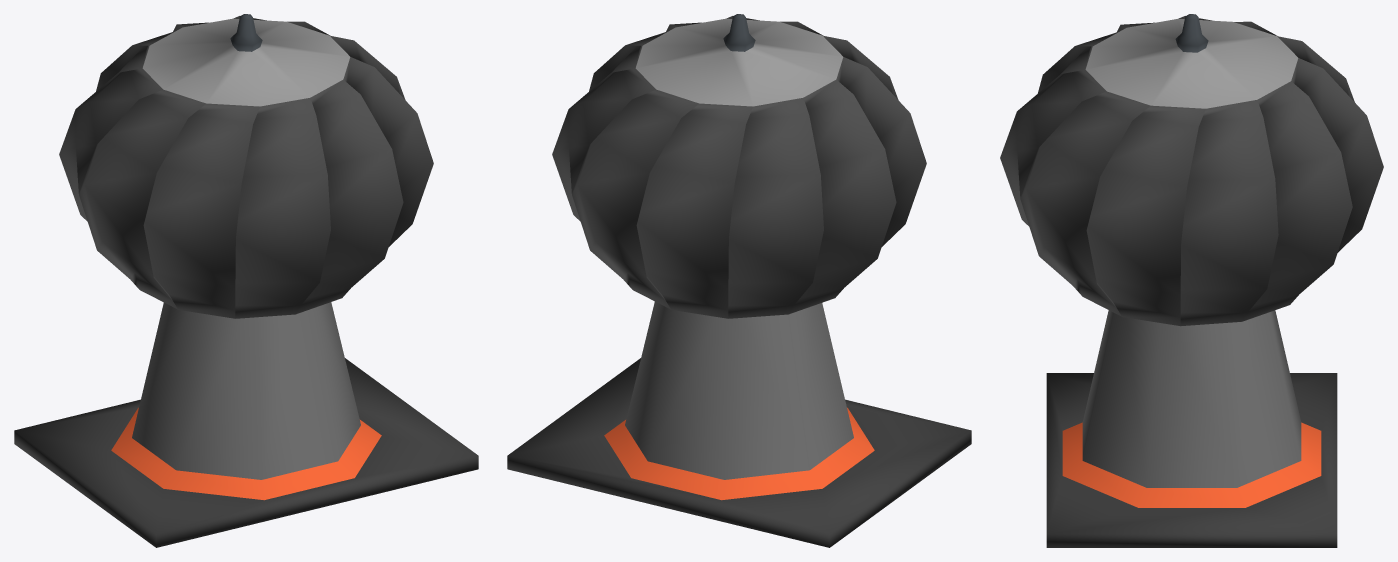
The model's file is RoofVent_01.glb.
3 renders of one model, left to right at view 1: azimuth 30°, elevation 25°; view 2: azimuth 150°, elevation 25°; view 3: azimuth 270°, elevation 25°, orthographic. The views are drawn at different scales.
Parts seen in each view (by area): view 1: RoofVent_01; view 2: RoofVent_01; view 3: RoofVent_01.
Boxes of the visible parts, left/top/right/bottom form: RoofVent_01: left=14, top=14, right=478, bottom=547; RoofVent_01: left=507, top=14, right=971, bottom=547; RoofVent_01: left=1000, top=14, right=1383, bottom=547.
Size of what is drawn, in the model's own units: 0.8318 by 1.08 by 0.8318.
1 material, 1 textured.
